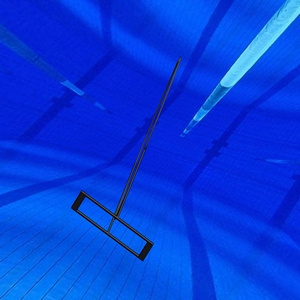circle: (70, 55, 184, 262)
